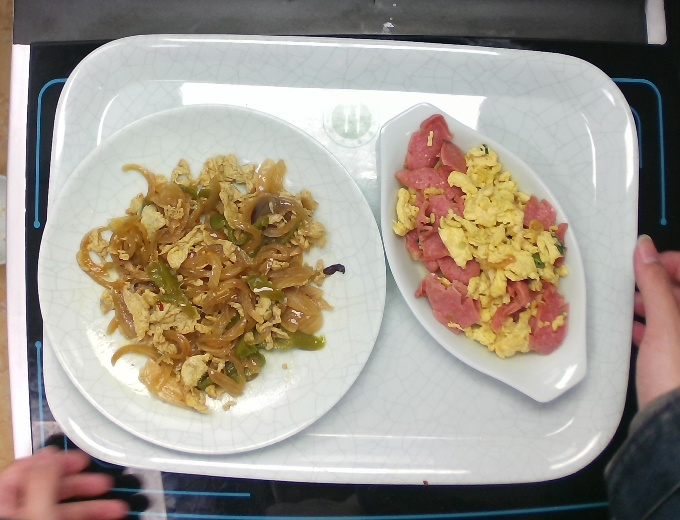JYsf-Da_Yuan_Pan: (25, 99, 398, 473)
JYsf-Yu_Pan: (371, 96, 607, 416)
